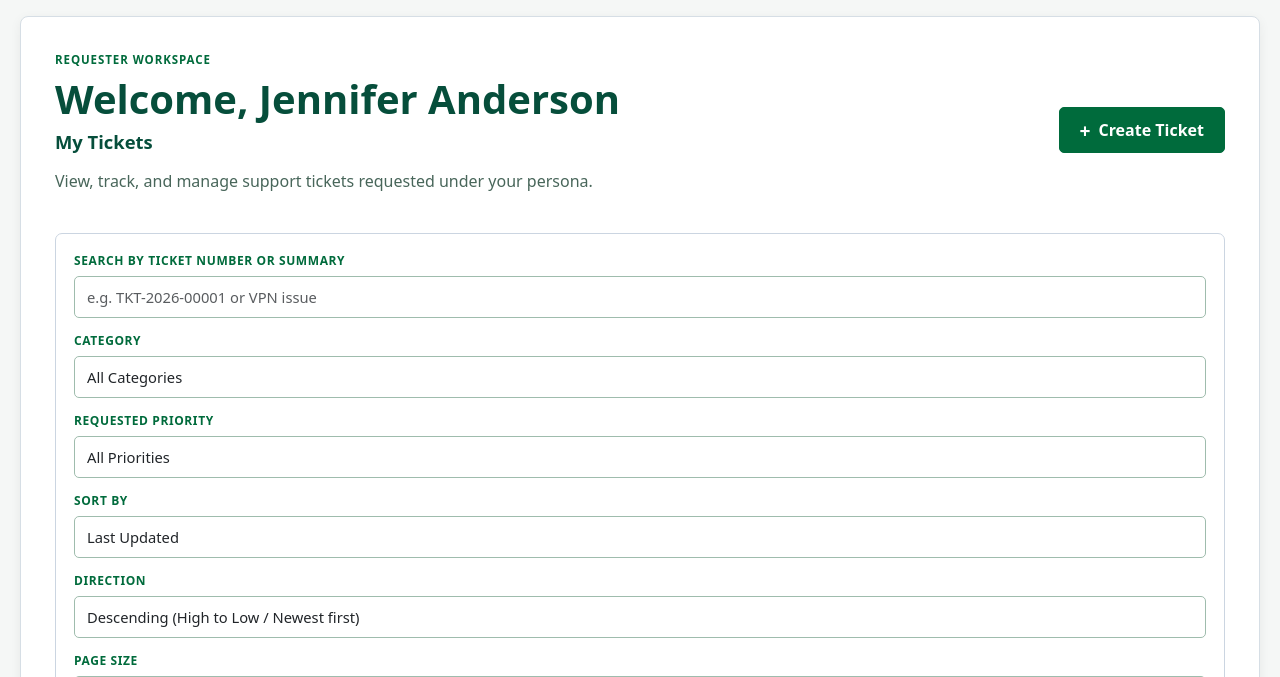
My Tickets workflow (UI-LIST-01 to UI-LIST-04) › ignores a stale search success after a newer result
The width and height of the screenshot is (1280, 677).
In the search field: (640, 297) [74,276,1206,318], type "keyboard"
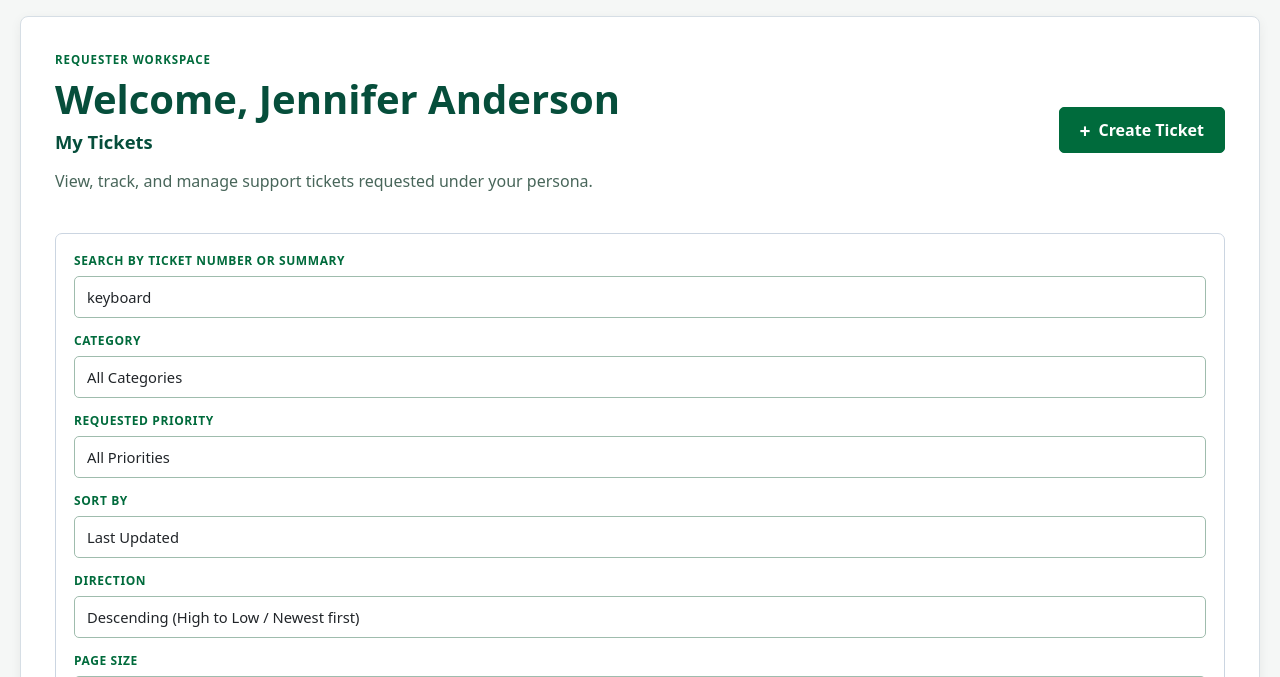
Replace the text in the search field with "VPN": (640, 297) [74,276,1206,318]
(page scrolled)
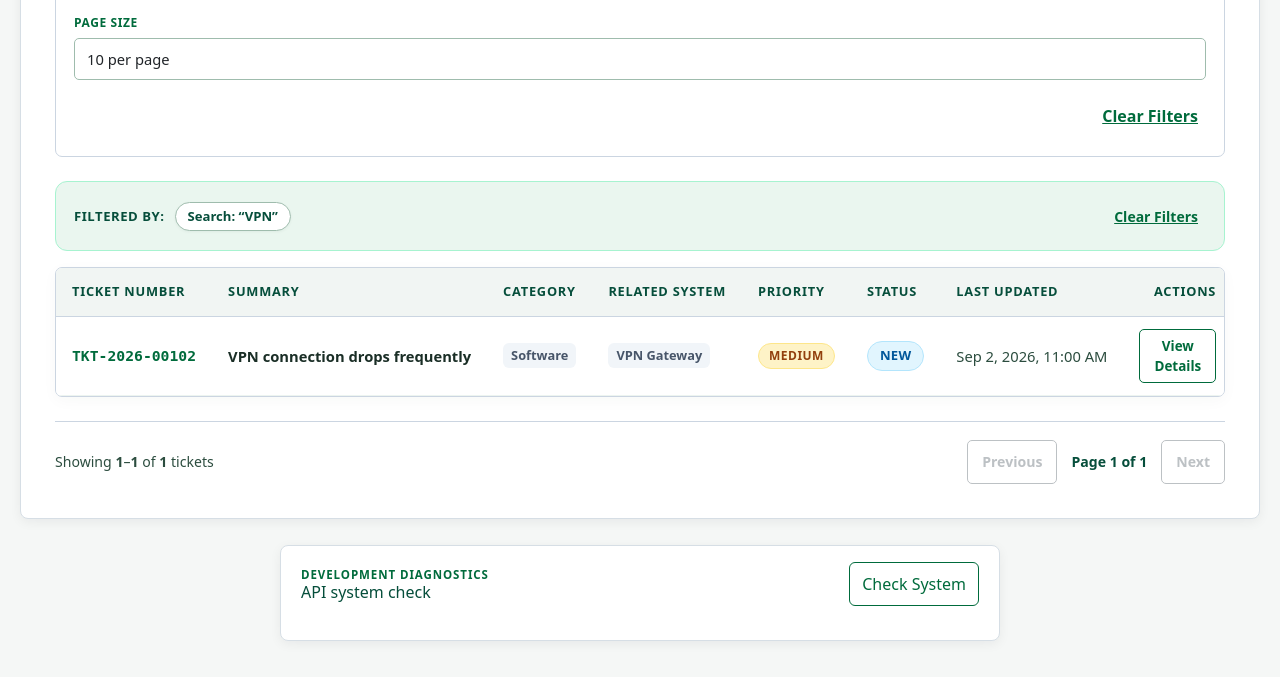
Check: the text "VPN connection drops frequently" is shown, box [228,345,471,367]
